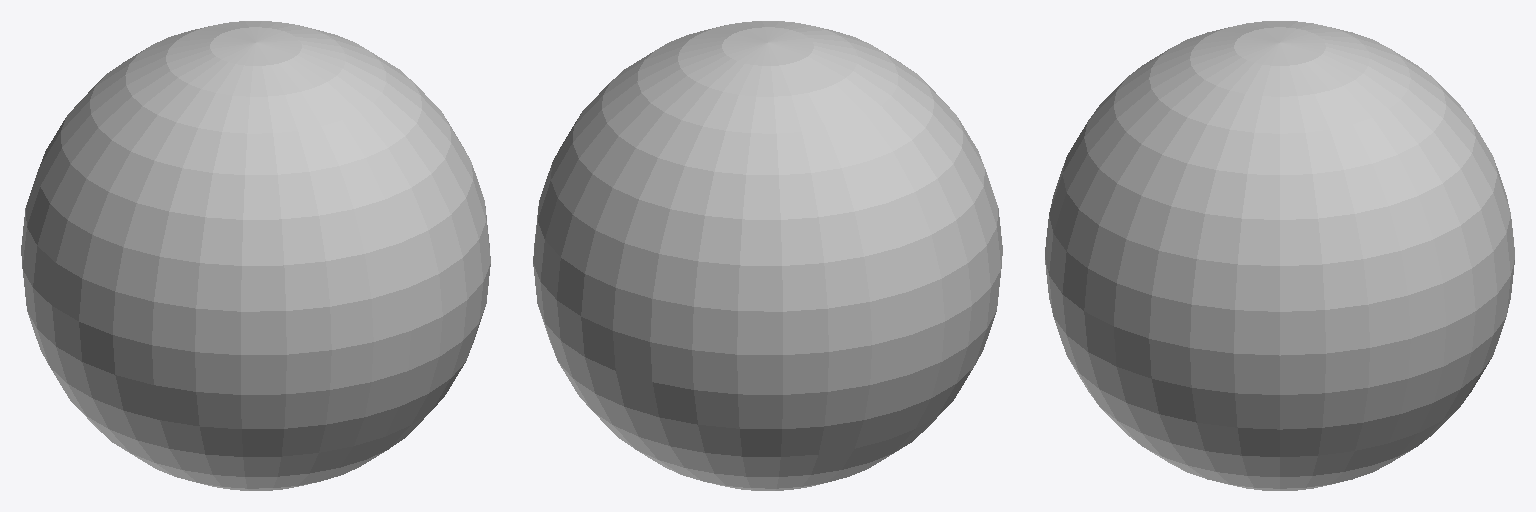
Rendered from playerRightHand.obj.
3 views of the same model, side by side, from view 1: azimuth 30°, elevation 25°; view 2: azimuth 150°, elevation 25°; view 3: azimuth 270°, elevation 25° (orthographic).
Parts seen in each view (by area): view 1: Sphere.002; view 2: Sphere.002; view 3: Sphere.002.
Part boxes in pixels (left/top/right/bottom): Sphere.002: left=21, top=21, right=490, bottom=490; Sphere.002: left=533, top=21, right=1002, bottom=490; Sphere.002: left=1045, top=21, right=1514, bottom=490.
Bounding box in the file's own units: 0.7776 × 0.7776 × 0.7776.